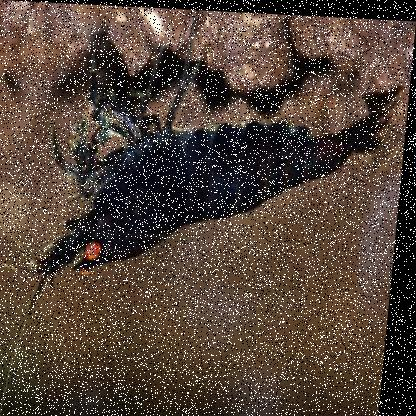shrimp: (17, 46, 404, 319)
